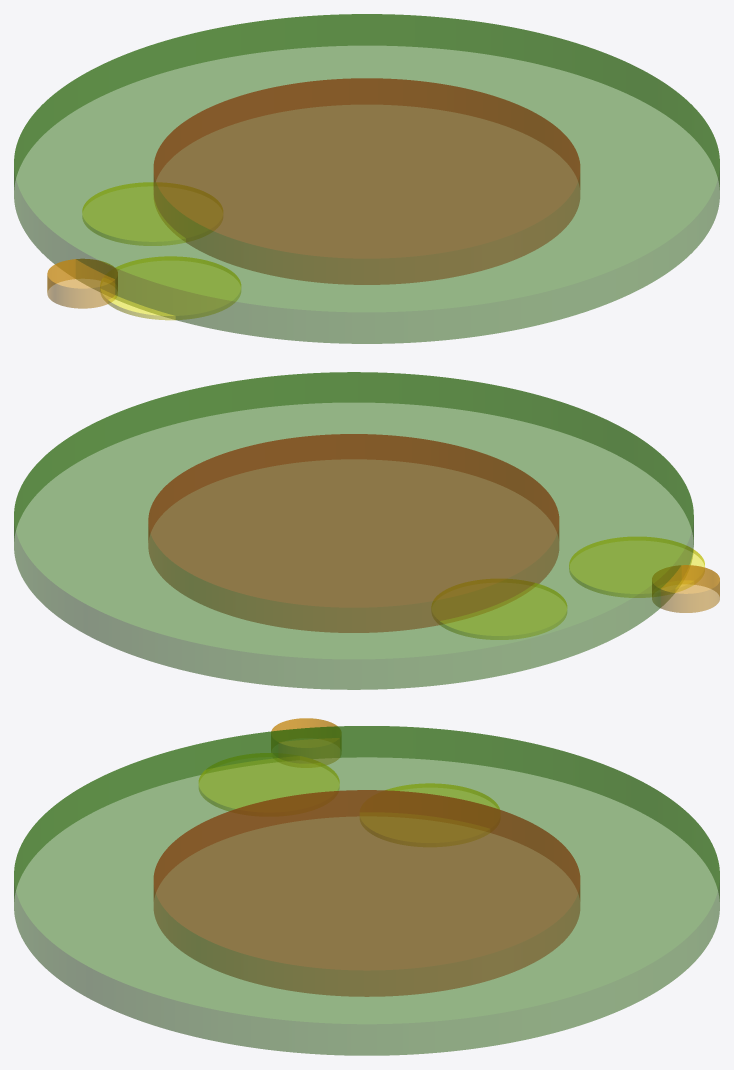
Rendered from PA_Airspace_ARjs_BlenderGIS_1scale.glb.
3 views of the same model, one above another, from view 1: azimuth 30°, elevation 25°; view 2: azimuth 150°, elevation 25°; view 3: azimuth 270°, elevation 25° (orthographic). The views are drawn at different scales.
Visible parts, largest first — view 1: GlassFieldClassE_Buffer, GlassFieldBuffer, VictoriaHospitalHeliport_Buffer, FireCenterHeliport_Buffer, CYR309Penitentiary_Buffer; view 2: GlassFieldClassE_Buffer, GlassFieldBuffer, VictoriaHospitalHeliport_Buffer, FireCenterHeliport_Buffer, CYR309Penitentiary_Buffer; view 3: GlassFieldClassE_Buffer, GlassFieldBuffer, VictoriaHospitalHeliport_Buffer, CYR309Penitentiary_Buffer, FireCenterHeliport_Buffer.
Boxes of the visible parts, bbox=[...] form: GlassFieldClassE_Buffer: bbox=[14, 14, 719, 343]; GlassFieldBuffer: bbox=[154, 78, 579, 284]; VictoriaHospitalHeliport_Buffer: bbox=[100, 256, 240, 320]; FireCenterHeliport_Buffer: bbox=[82, 182, 222, 245]; CYR309Penitentiary_Buffer: bbox=[47, 259, 117, 308]; GlassFieldClassE_Buffer: bbox=[14, 372, 693, 689]; GlassFieldBuffer: bbox=[148, 434, 558, 632]; VictoriaHospitalHeliport_Buffer: bbox=[569, 537, 704, 597]; FireCenterHeliport_Buffer: bbox=[432, 579, 566, 639]; CYR309Penitentiary_Buffer: bbox=[652, 565, 719, 612]; GlassFieldClassE_Buffer: bbox=[14, 726, 719, 1055]; GlassFieldBuffer: bbox=[154, 790, 579, 996]; VictoriaHospitalHeliport_Buffer: bbox=[199, 753, 339, 810]; CYR309Penitentiary_Buffer: bbox=[271, 718, 340, 764]; FireCenterHeliport_Buffer: bbox=[386, 783, 499, 809].
Bounding box in the file's own units: 19714 × 914 × 18520.
